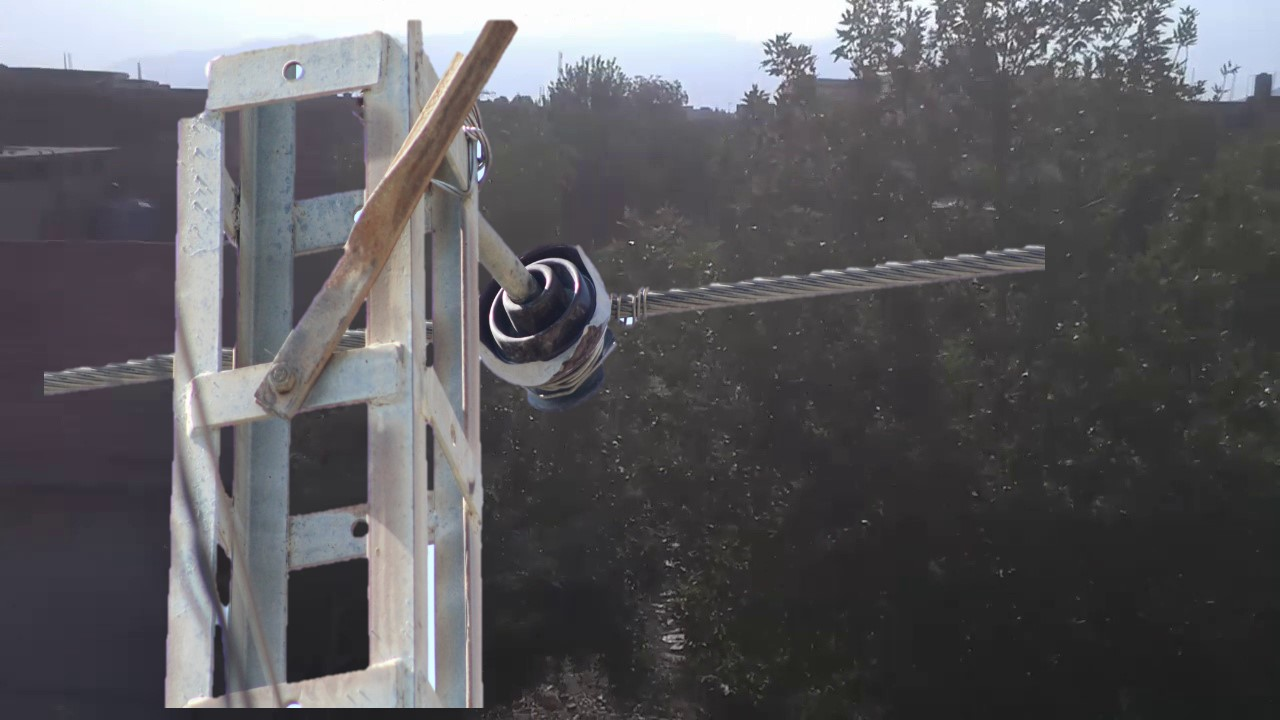defect_pin: (476, 238, 632, 418)
